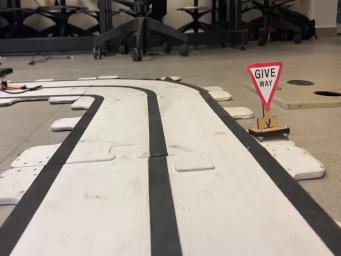give_way: (246, 61, 290, 141), (246, 61, 290, 141), (246, 61, 290, 141), (246, 61, 290, 141), (246, 61, 290, 141), (246, 61, 290, 141)
street: (0, 75, 341, 256), (0, 75, 341, 256), (0, 75, 341, 256), (0, 75, 341, 256), (0, 75, 341, 256), (0, 75, 341, 256)
